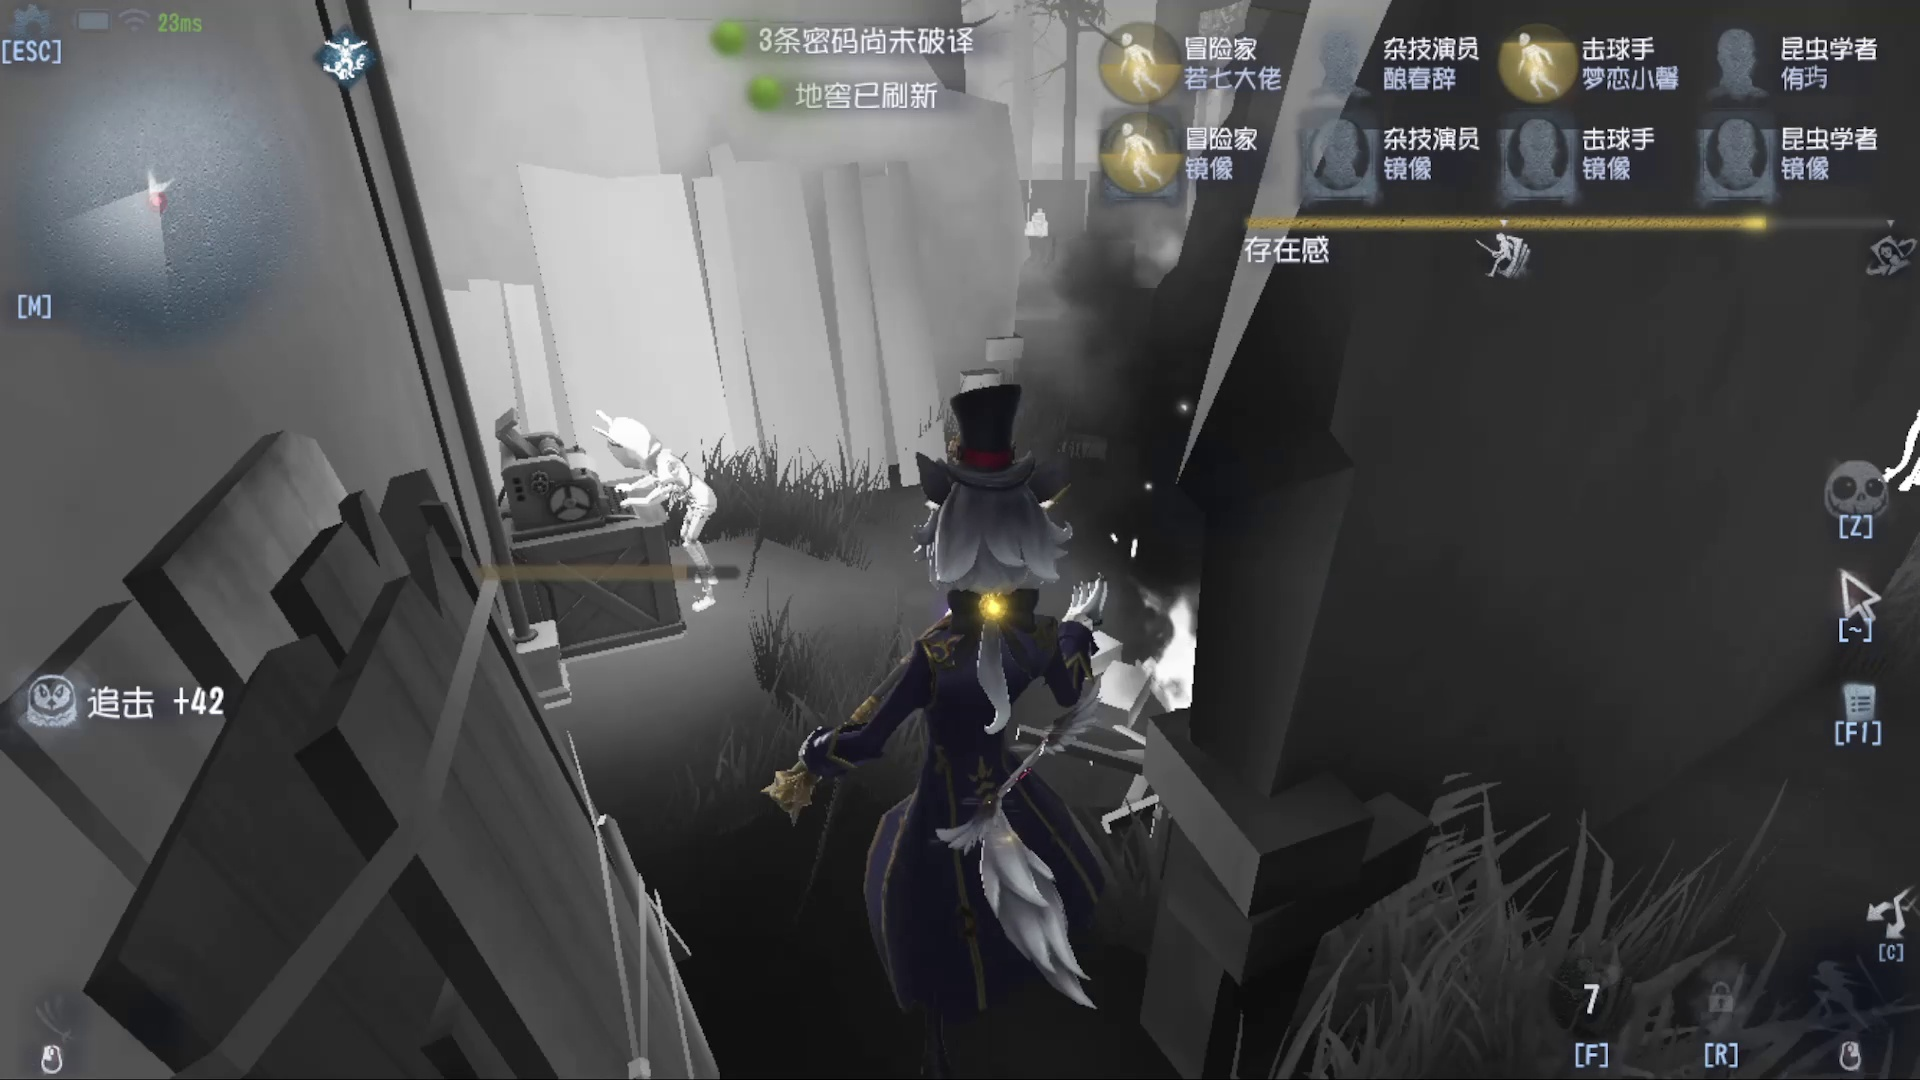密码机: (472, 421, 662, 640)
求生者: (585, 411, 756, 611)
